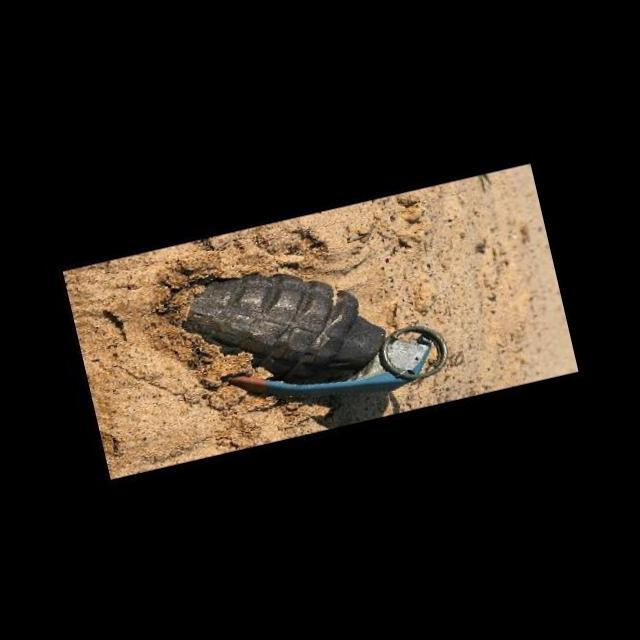grenade: (147, 213, 466, 440)
